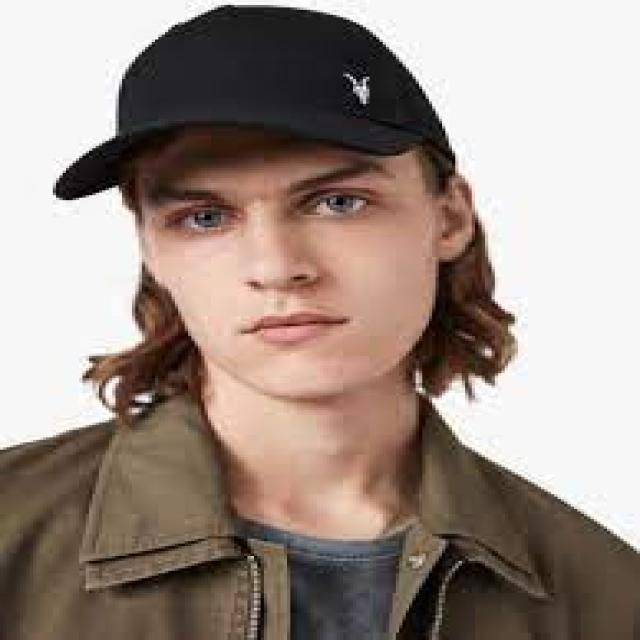cap: (21, 2, 476, 260)
